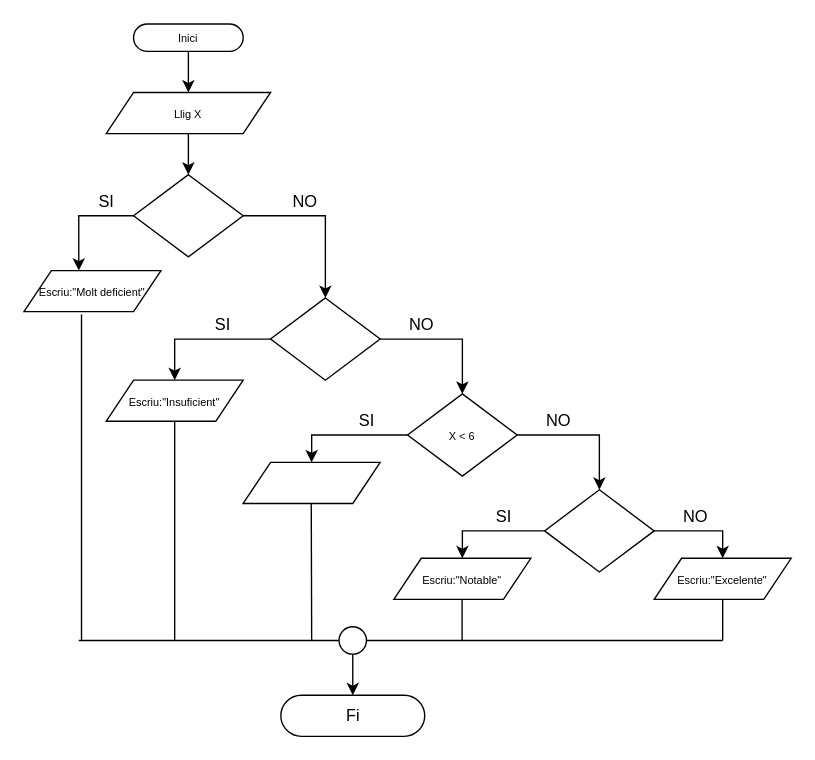
This 815x760 diagram has some shape labels left out. Here are the shapes that lost their labels. From the top down, the box of each, then its label:
(132, 173, 243, 257): X < 3
(269, 297, 380, 380): X < 5
(242, 461, 380, 503): Escriu:"Bé"
(543, 488, 654, 572): X < 9
